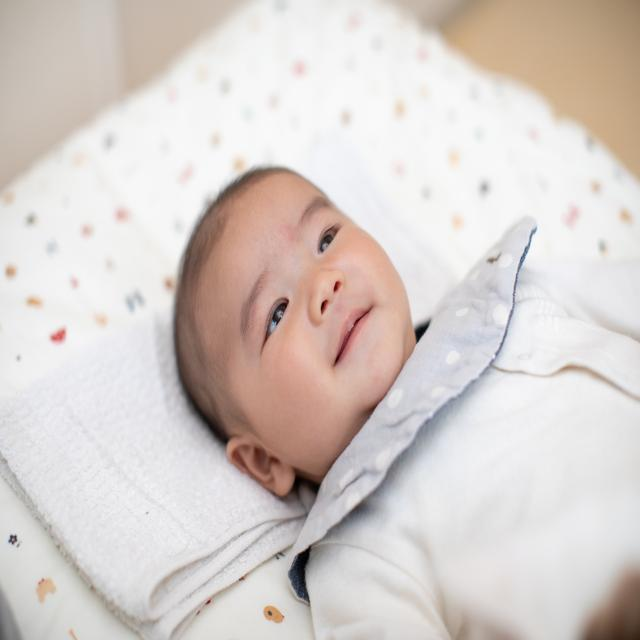non-dog: (172, 158, 637, 640)
